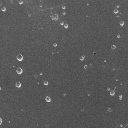corrosion: (43, 94, 52, 104), (15, 53, 24, 62), (15, 67, 23, 75), (51, 13, 58, 21), (78, 55, 86, 62), (117, 20, 125, 27), (110, 43, 117, 51), (112, 8, 119, 15), (1, 6, 8, 13), (15, 80, 21, 88), (43, 80, 50, 86), (63, 23, 69, 29), (52, 42, 58, 48), (109, 91, 115, 97), (116, 32, 121, 39), (118, 94, 123, 101), (60, 5, 67, 10), (17, 1, 24, 5), (61, 12, 67, 16)
